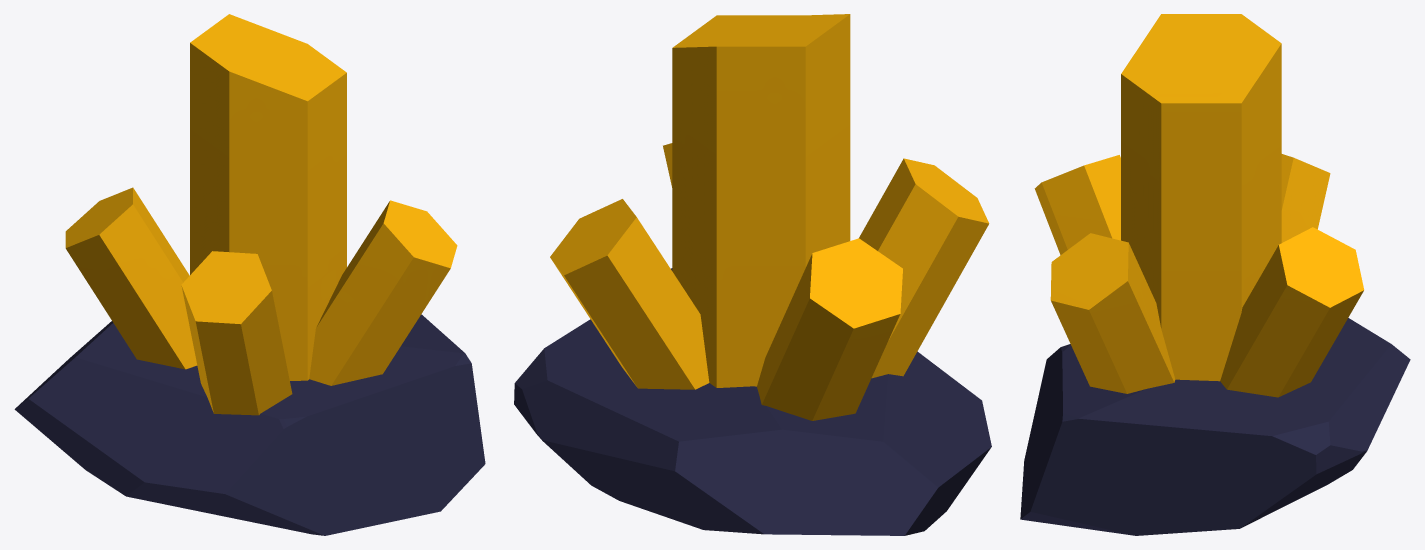
The picture shows the model from 3 angles, left to right: view 1: azimuth 30°, elevation 25°; view 2: azimuth 150°, elevation 25°; view 3: azimuth 270°, elevation 25°; orthographic projection. The views are drawn at different scales.
Visible parts, largest first — view 1: Nó 9; view 2: Nó 9; view 3: Nó 9.
Part boxes in pixels (box(x1,y1,x2,y2)): Nó 9: box(14, 14, 485, 535); Nó 9: box(514, 14, 991, 535); Nó 9: box(1020, 14, 1410, 535).
Size of the model in its own units: 126 by 142 by 116.
2 materials, 1 textured.
